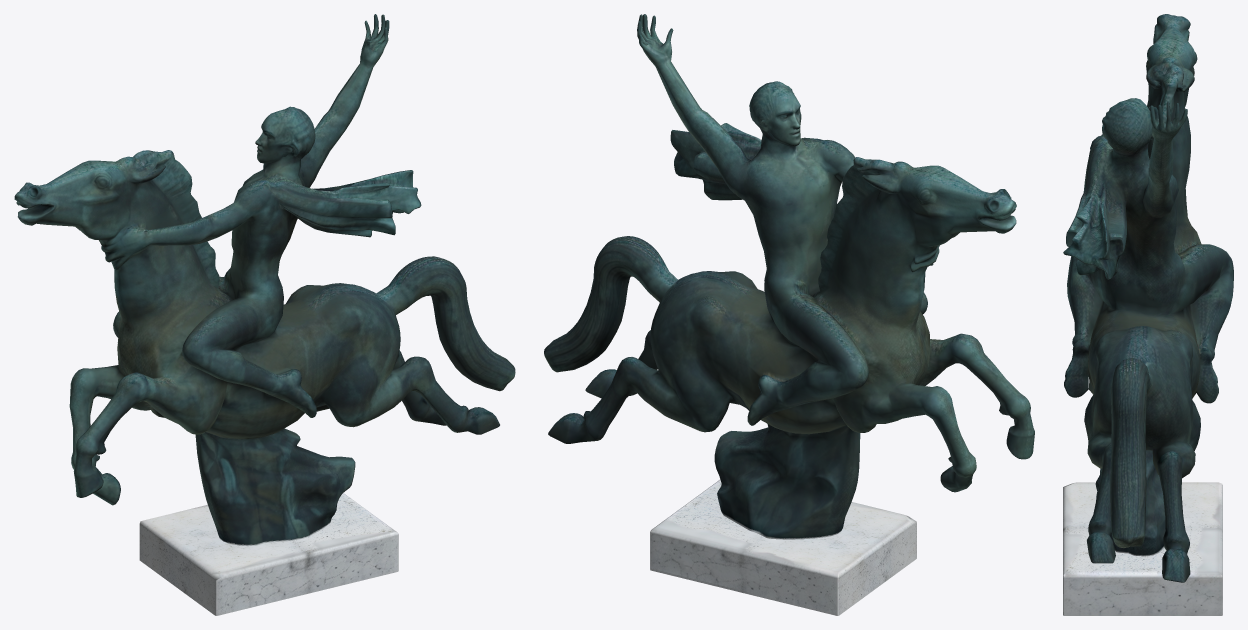
File: konjanik.glb
3 renders of one model, left to right at view 1: azimuth 30°, elevation 25°; view 2: azimuth 150°, elevation 25°; view 3: azimuth 270°, elevation 25°, orthographic. The views are drawn at different scales.
Parts seen in each view (by area): view 1: tripo_node_45969863-e879-4fc6-a62d-02a6634b7a40; view 2: tripo_node_45969863-e879-4fc6-a62d-02a6634b7a40; view 3: tripo_node_45969863-e879-4fc6-a62d-02a6634b7a40.
Part boxes in pixels (x1,y1,x2,y2): tripo_node_45969863-e879-4fc6-a62d-02a6634b7a40: [14, 14, 515, 615]; tripo_node_45969863-e879-4fc6-a62d-02a6634b7a40: [544, 14, 1034, 615]; tripo_node_45969863-e879-4fc6-a62d-02a6634b7a40: [1063, 14, 1233, 615].
Size of the model in its own units: 0.9751 by 0.9995 by 0.2915.
Materials: 1 (1 with a texture image).
